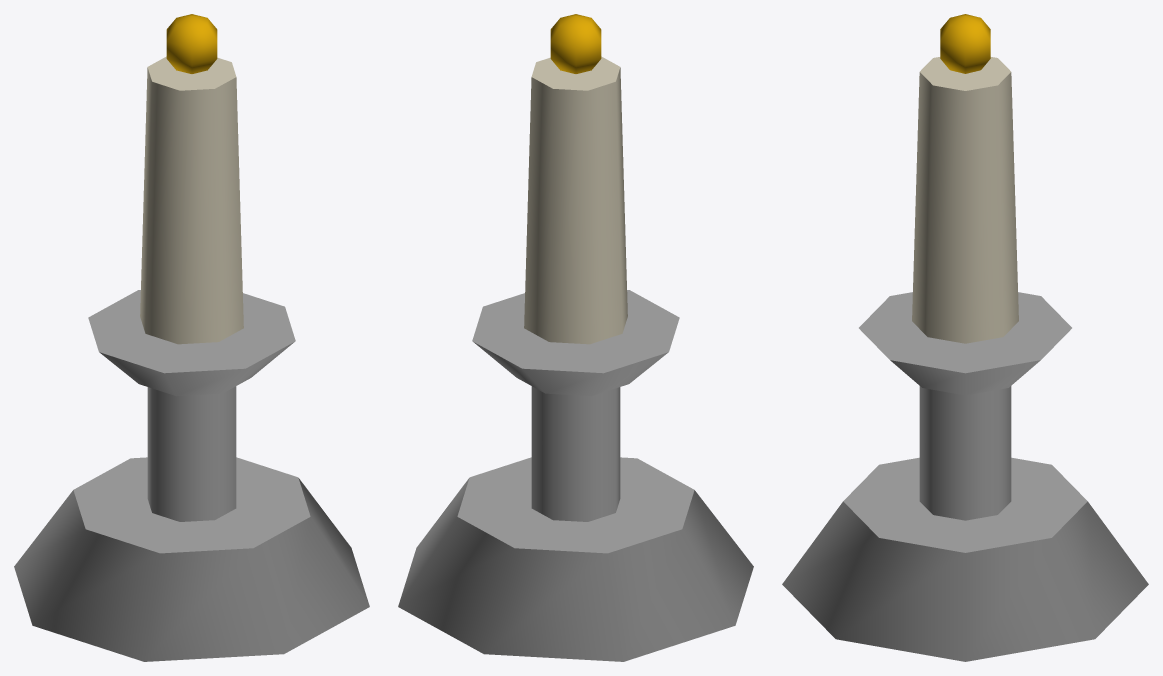
File: candle.glb
The picture shows the model from 3 angles, left to right: view 1: azimuth 30°, elevation 25°; view 2: azimuth 150°, elevation 25°; view 3: azimuth 270°, elevation 25°; orthographic projection.
Bounding box in the file's own units: 0.24 × 0.41 × 0.24.
